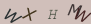H: (47, 8, 59, 20)
M: (67, 3, 82, 20)
W: (3, 8, 22, 24), (75, 5, 91, 23)
X: (21, 7, 38, 21)
